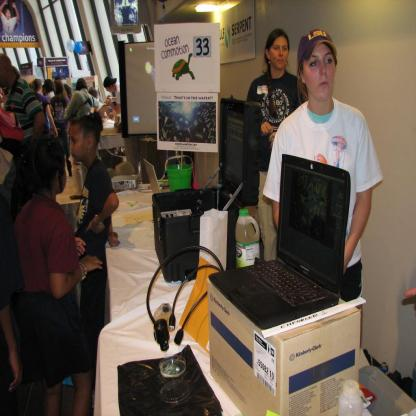board: (208, 152, 351, 332), (143, 159, 162, 194)
